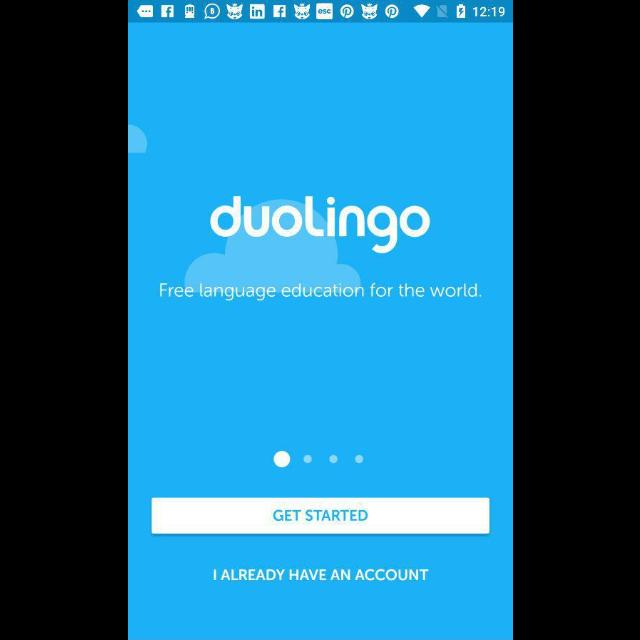pageindicator: (272, 450, 364, 468)
text: (208, 195, 430, 255), (158, 282, 482, 302), (213, 568, 429, 582)
textbutton: (151, 498, 489, 534)
uppertaskbar: (128, 1, 512, 23)
